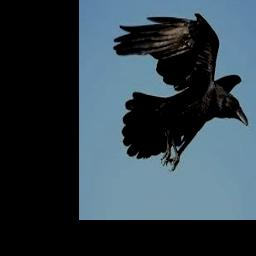Crow: (112, 12, 247, 172)
